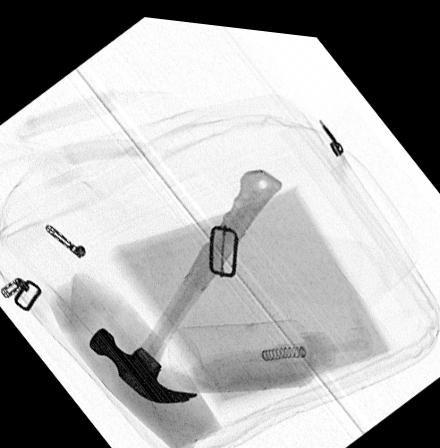Hammer: (87, 160, 282, 400)
